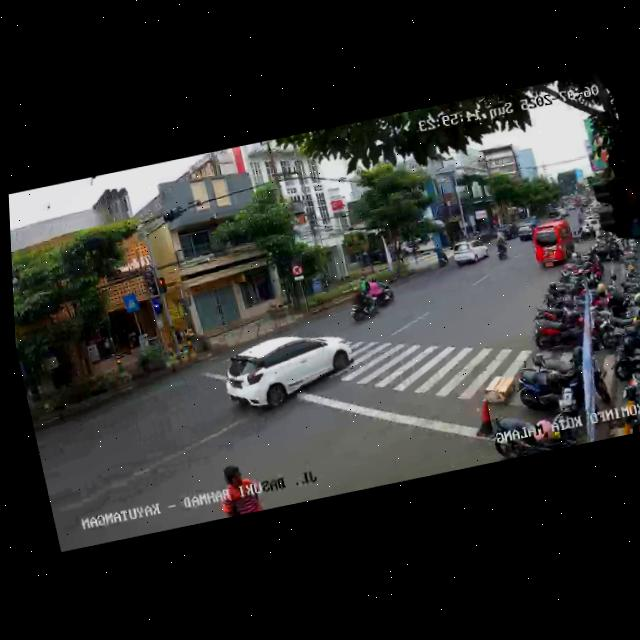car: (215, 322, 361, 421), (528, 216, 579, 271), (449, 236, 491, 270)
motorcycle: (342, 282, 379, 324), (369, 273, 397, 309), (492, 234, 510, 262), (435, 245, 449, 267)
person: (211, 456, 266, 518)
